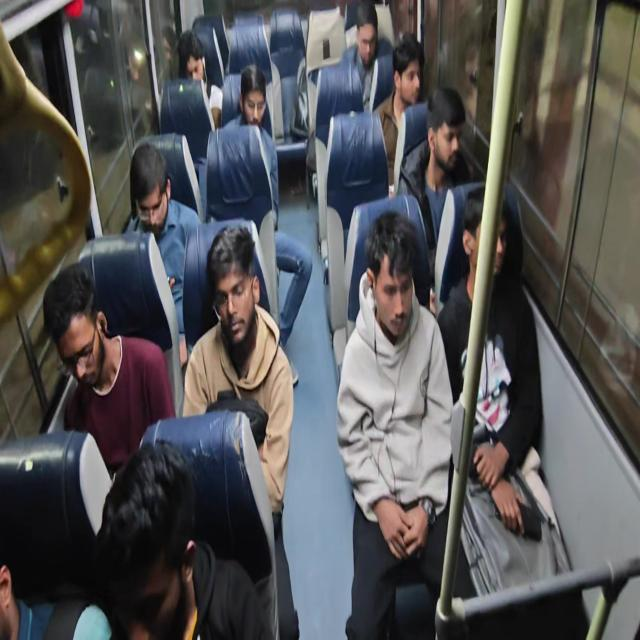person: (115, 469, 278, 640), (22, 221, 93, 448), (351, 232, 423, 361), (204, 240, 276, 369), (0, 499, 64, 640), (458, 170, 522, 292), (132, 119, 184, 267), (391, 35, 435, 133), (427, 85, 468, 169), (177, 37, 230, 98), (228, 64, 264, 145), (341, 6, 381, 50)
